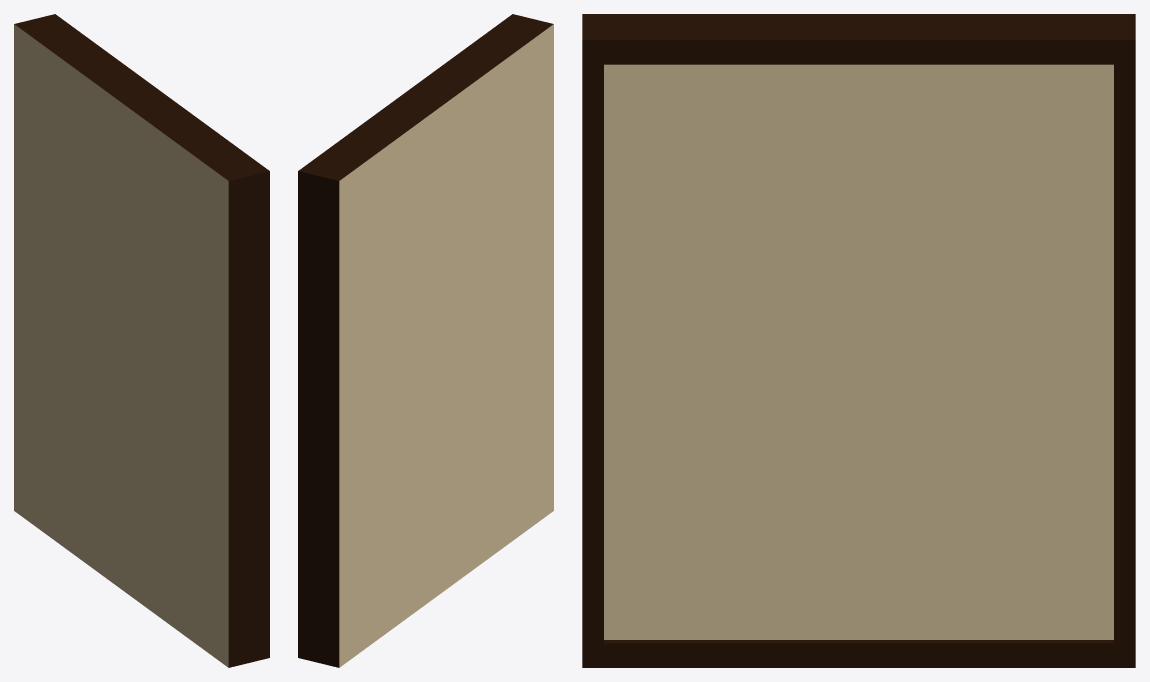
File: wall1.fbx
3 renders of one model, left to right at view 1: azimuth 30°, elevation 25°; view 2: azimuth 150°, elevation 25°; view 3: azimuth 270°, elevation 25°, orthographic. The views are drawn at different scales.
Parts seen in each view (by area): view 1: Cube.006; view 2: Cube.006; view 3: Cube.006.
Part boxes in pixels (x1=…): Cube.006: x1=14, y1=14, x2=269, y2=667; Cube.006: x1=298, y1=14, x2=553, y2=667; Cube.006: x1=582, y1=14, x2=1135, y2=667.
Bounding box in the file's own units: 53.53 × 606 × 484.
